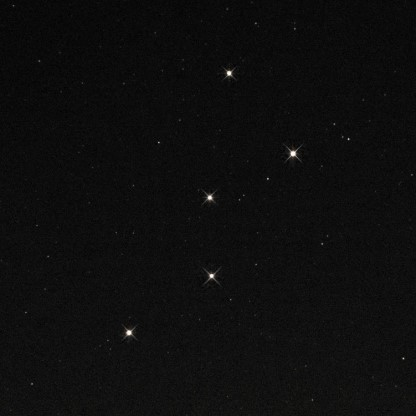Cassiopeia: (112, 314, 144, 349), (278, 136, 308, 168), (200, 258, 227, 291), (216, 58, 244, 87), (197, 184, 225, 211)
